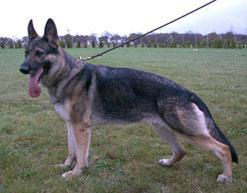German_shepherd: (18, 18, 241, 187)
